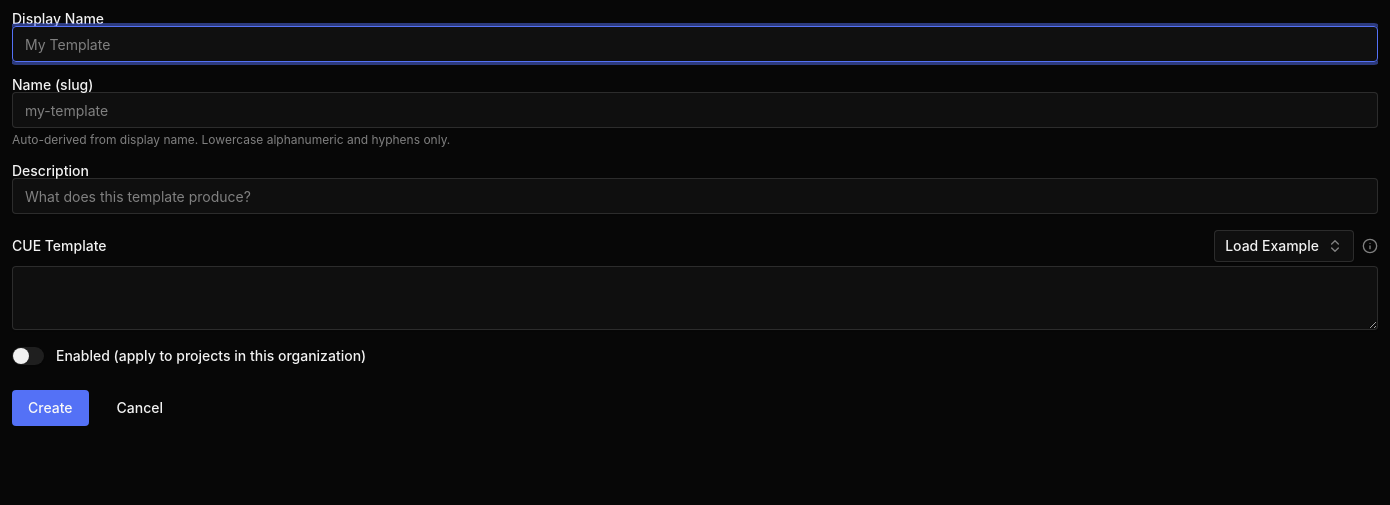
TemplateCreateForm — shared behavior › rejects submission when name is empty (organization)
This screenshot has width=1390, height=505.
Click the button "Create".
click(50, 408)  # box [12,390,89,426]
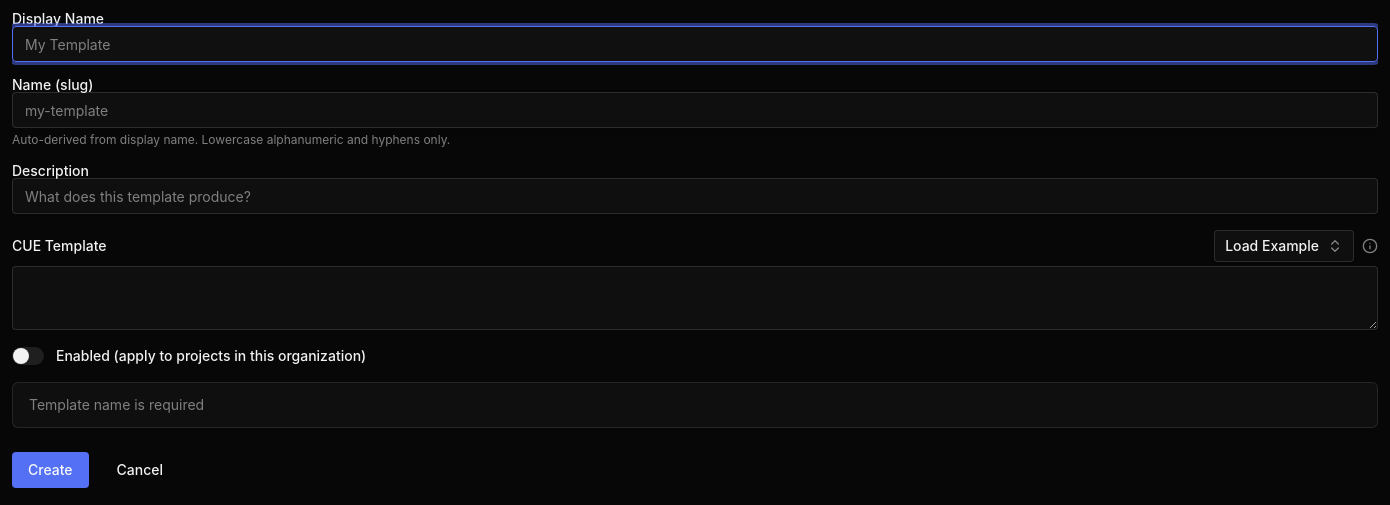
Result: the text "Template name is required" is shown at [29,396,204,413]
